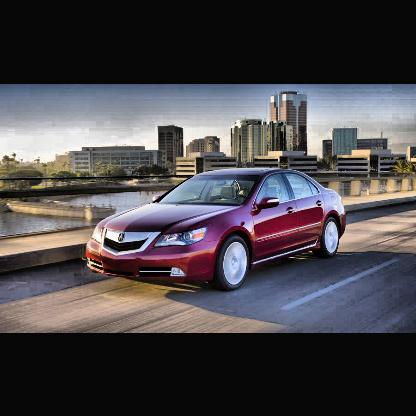Acura RL Sedan 2012: (84, 166, 349, 293)
